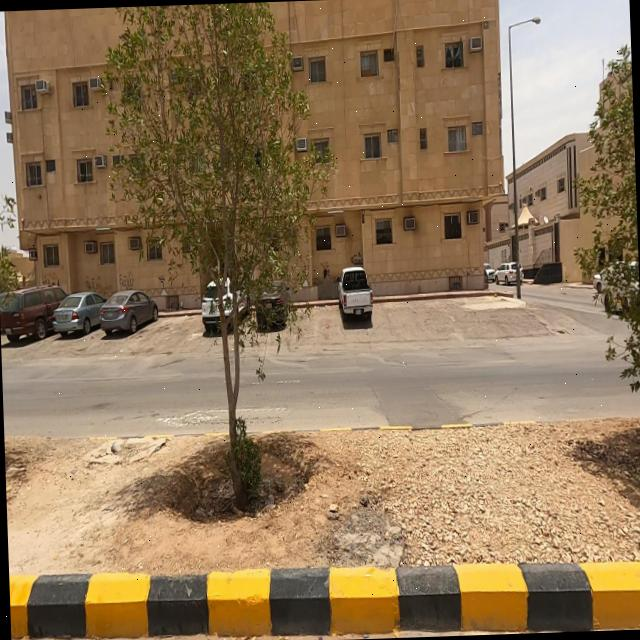Graffiti: (85, 276, 111, 294), (119, 270, 136, 290), (43, 272, 62, 289), (320, 261, 333, 279), (351, 251, 365, 267), (158, 272, 167, 288)
